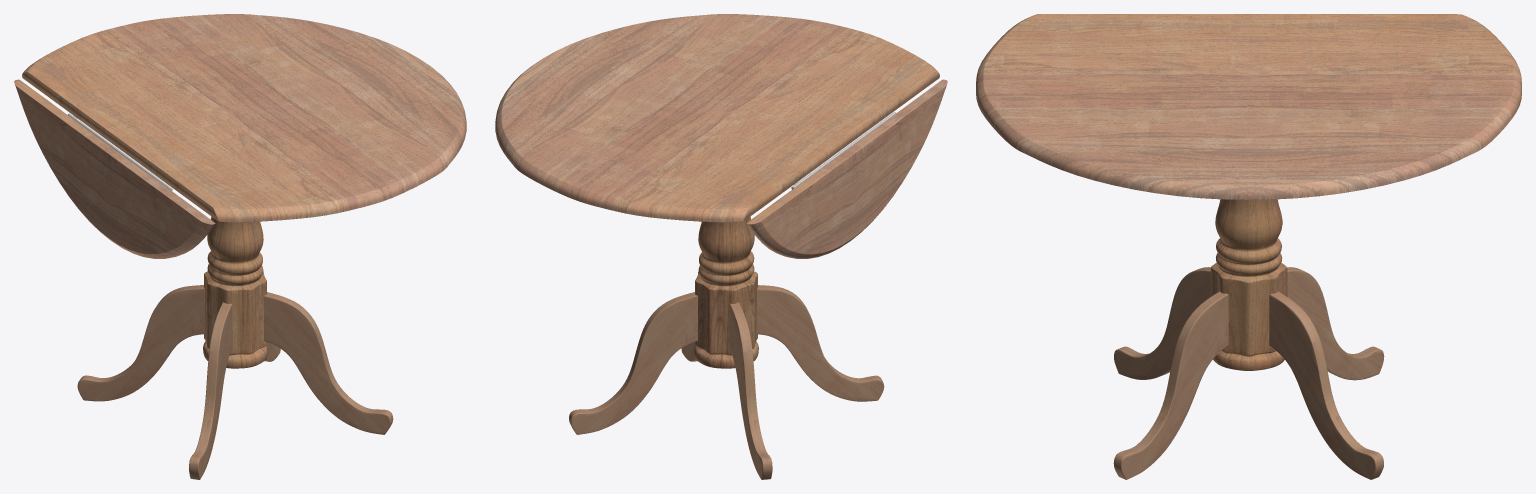
File: ATGR1540_v6_LOD2.obj
The picture shows the model from 3 angles, left to right: view 1: azimuth 30°, elevation 25°; view 2: azimuth 150°, elevation 25°; view 3: azimuth 270°, elevation 25°; orthographic projection. The views are drawn at different scales.
Parts seen in each view (by area): view 1: not_clear_obj_2_v6, not_clear_obj_0_v6, not_clear_obj_1_v6; view 2: not_clear_obj_2_v6, not_clear_obj_0_v6, not_clear_obj_1_v6; view 3: not_clear_obj_2_v6, not_clear_obj_0_v6, not_clear_obj_1_v6.
Boxes of the visible parts, box(x1,y1,x2,y2) form: not_clear_obj_2_v6: box(14, 14, 466, 258); not_clear_obj_0_v6: box(77, 285, 393, 479); not_clear_obj_1_v6: box(203, 216, 267, 368); not_clear_obj_2_v6: box(495, 14, 947, 258); not_clear_obj_0_v6: box(569, 285, 884, 479); not_clear_obj_1_v6: box(694, 216, 758, 368); not_clear_obj_2_v6: box(976, 14, 1521, 199); not_clear_obj_0_v6: box(1113, 267, 1384, 479); not_clear_obj_1_v6: box(1210, 199, 1287, 370).
Size of what is drawn, in the model's own units: 83.82 by 74.92 by 107.
